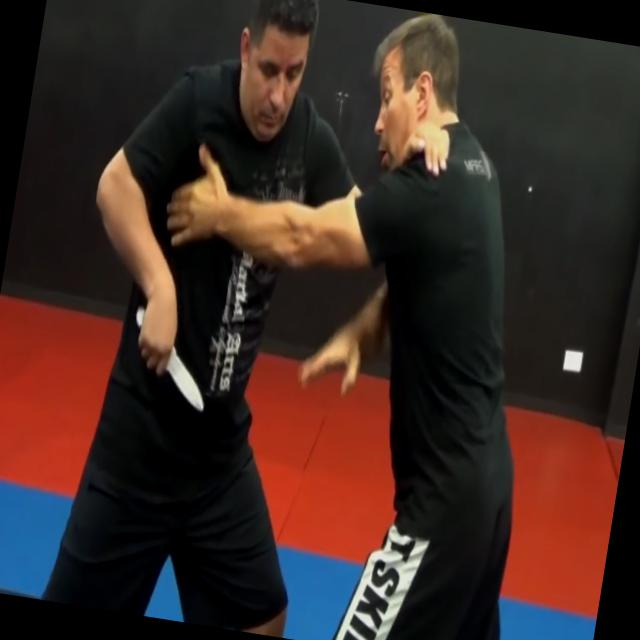knife: (118, 300, 220, 418)
